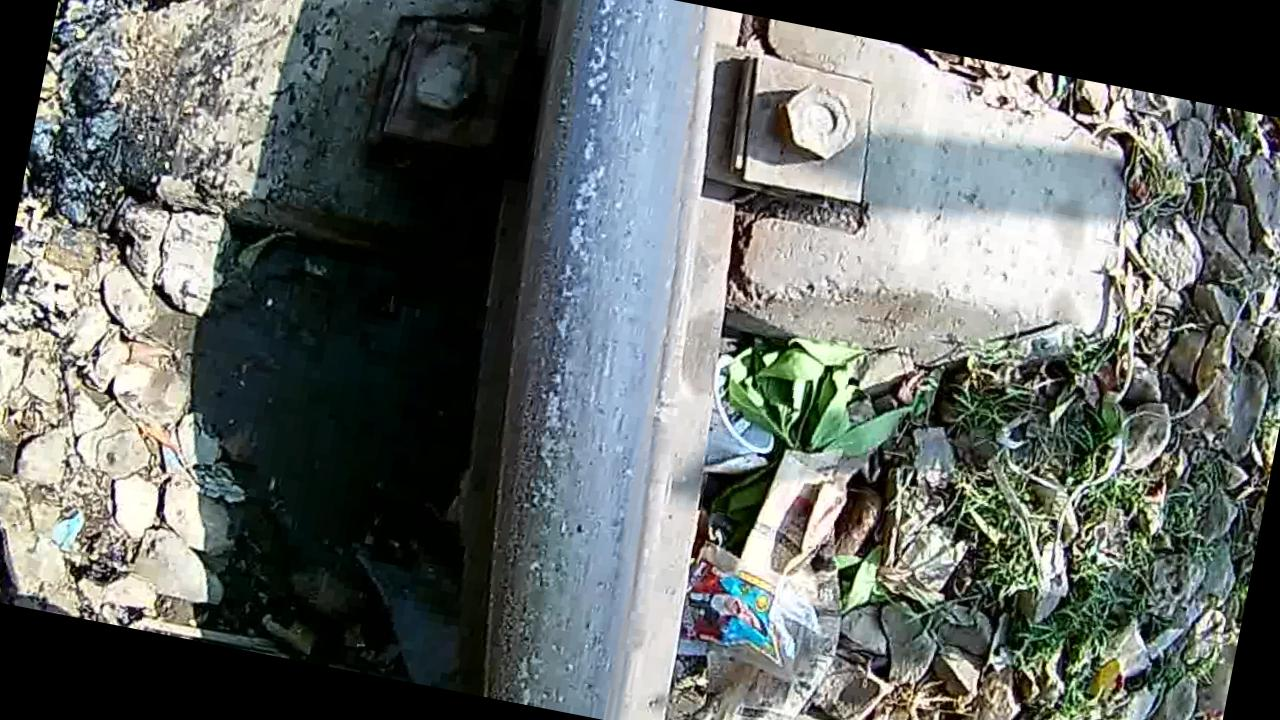clip_missing: (417, 0, 753, 720)
